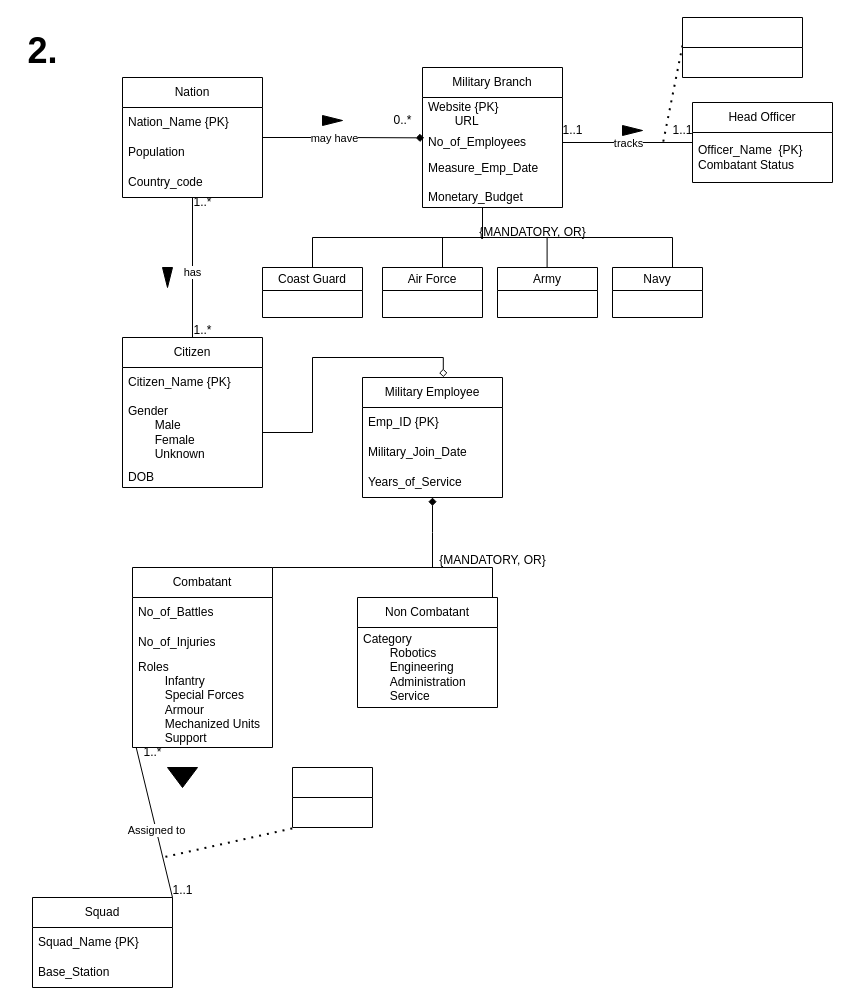
Some shapes in this 850 by 1005 pixel diagram are drawn without their labels. The shapes that lost their labels are listed below. From the top down, each one's centre as x and y in pixels, then its label:
At [742,47]: "Title_of_Officer".
At [332,797]: "Lead_Squad".
